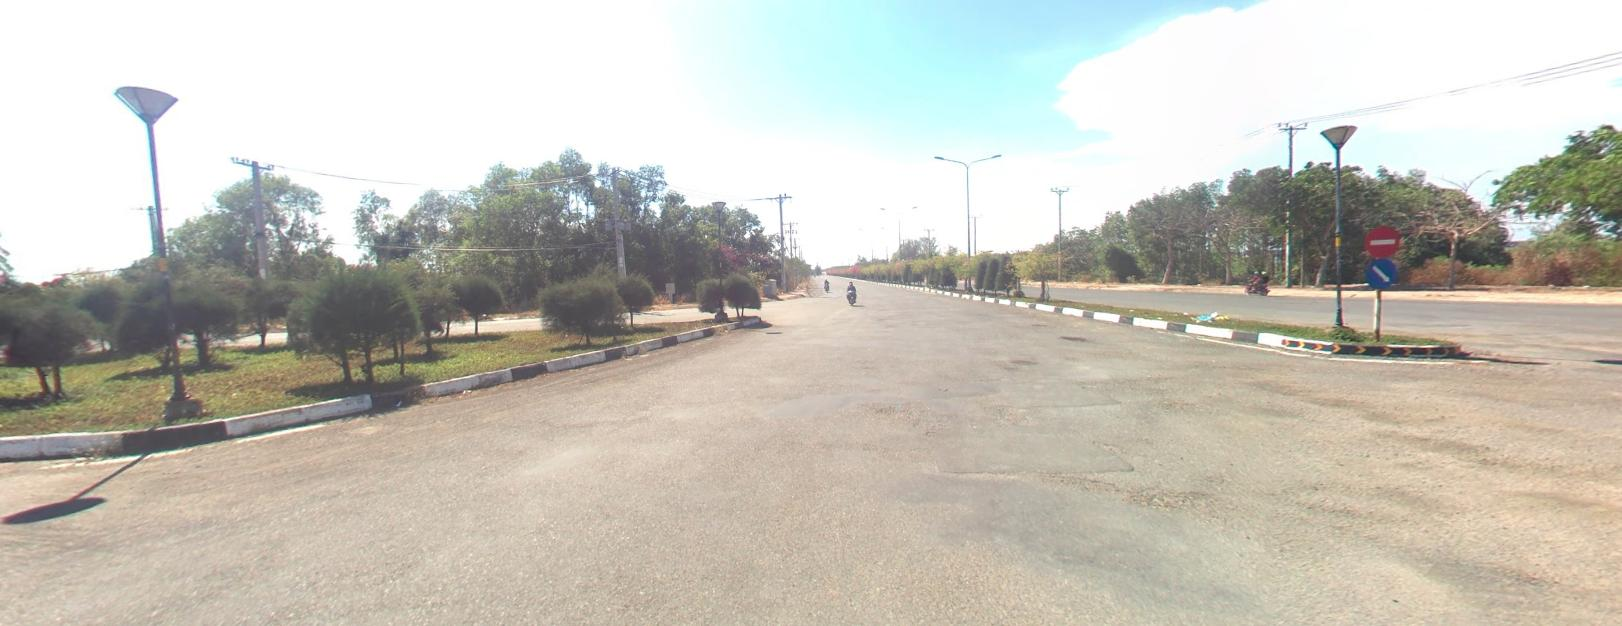Cam nguoc chieu: (1365, 223, 1400, 255)
Hieu lenh: (1365, 256, 1398, 286)
